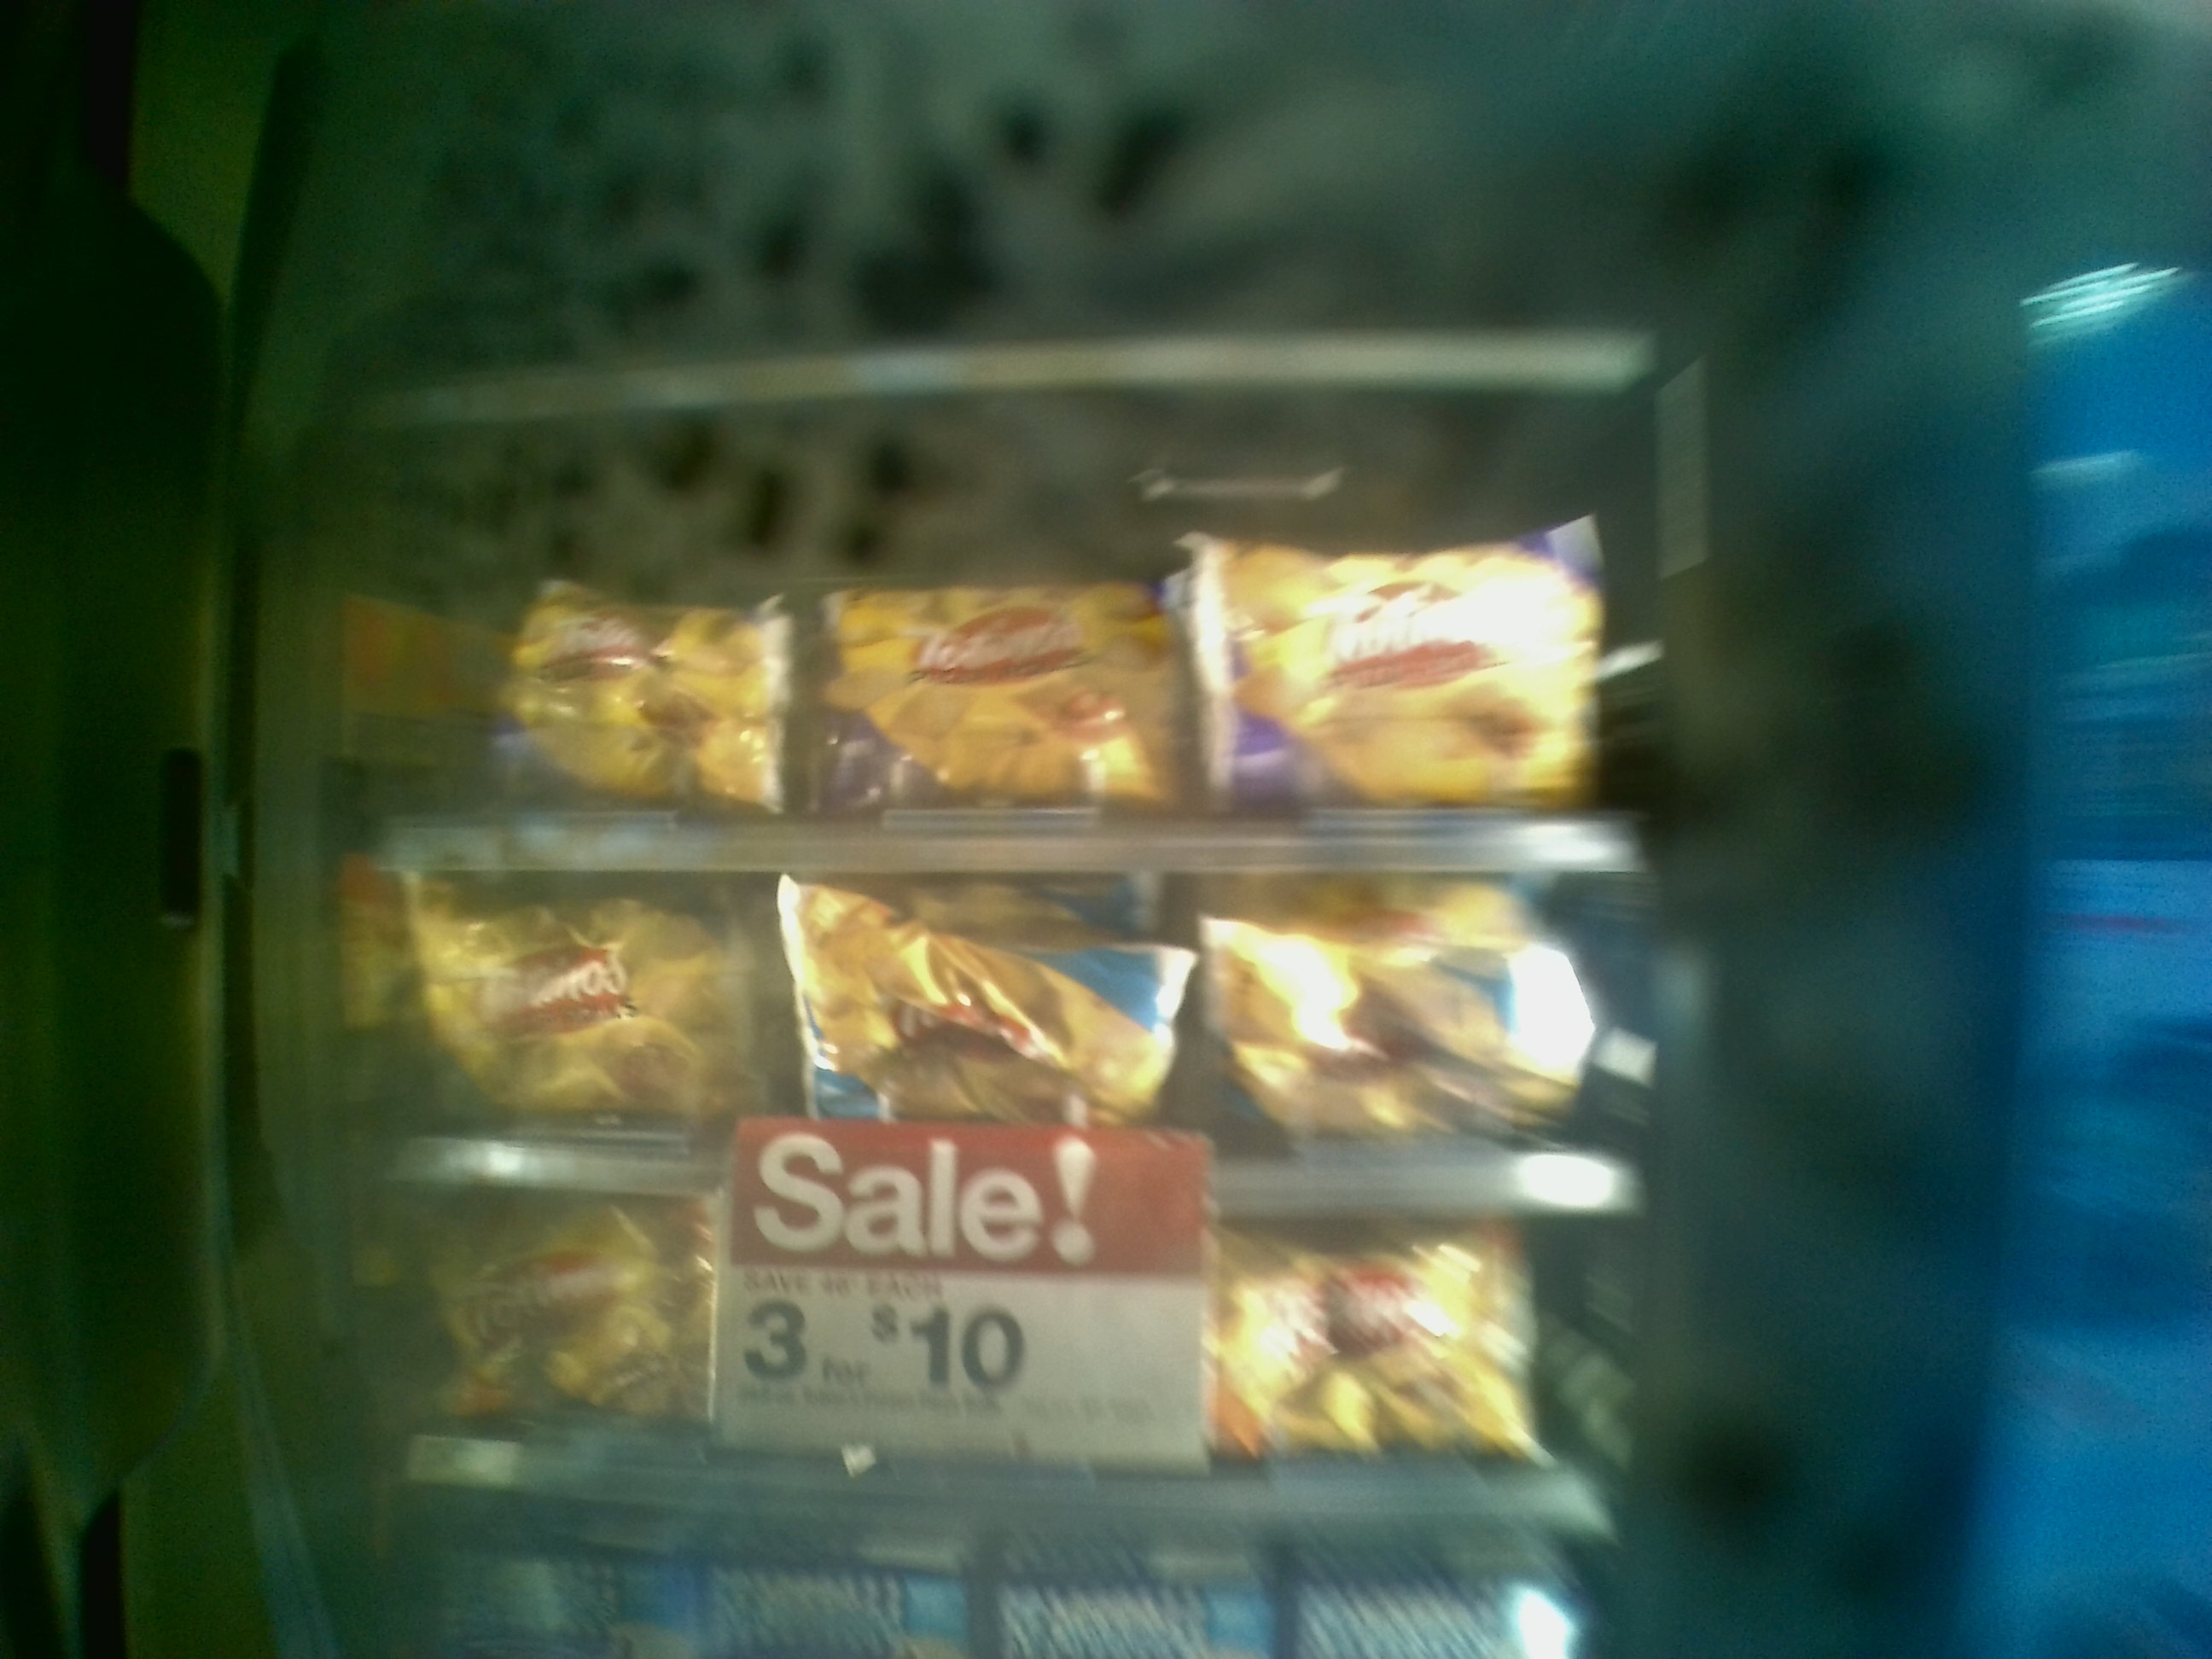shelf: (317, 373, 1641, 863), (338, 842, 1663, 1202)
